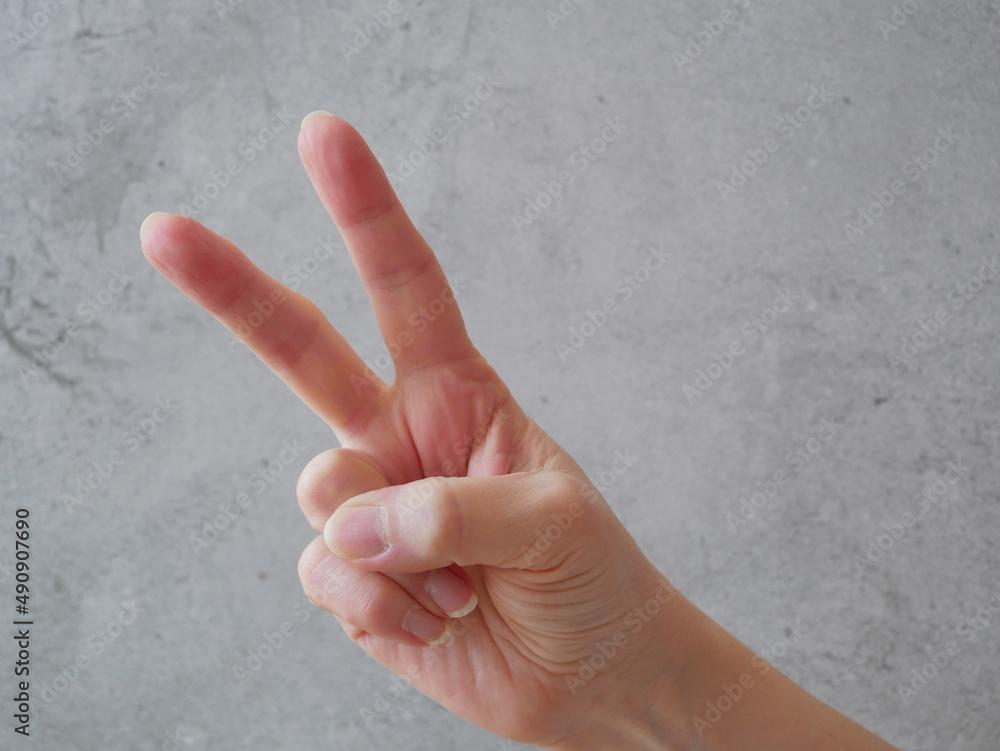peace_sign: (125, 96, 725, 751)
